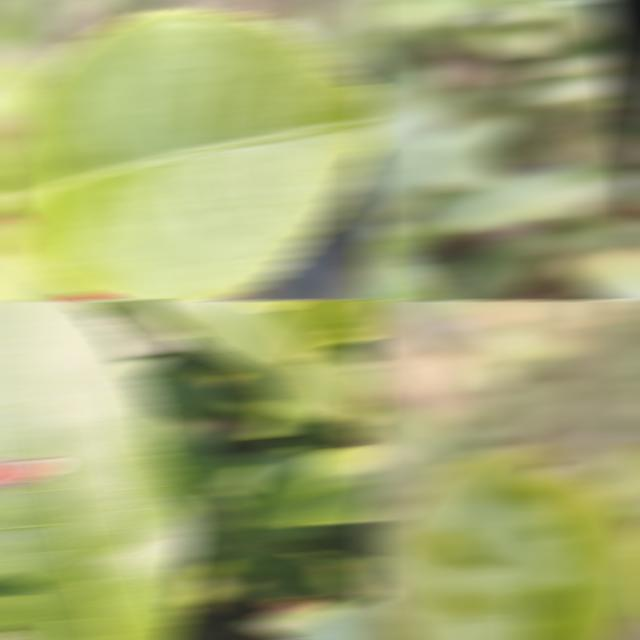Leaf: (0, 9, 379, 300), (0, 300, 197, 640), (382, 446, 640, 640), (143, 300, 349, 419), (419, 168, 638, 233), (204, 519, 379, 596), (228, 447, 379, 526), (138, 381, 225, 506), (363, 395, 453, 498), (246, 300, 379, 363), (379, 300, 467, 352), (72, 300, 188, 337), (9, 252, 84, 300), (0, 222, 31, 300)
